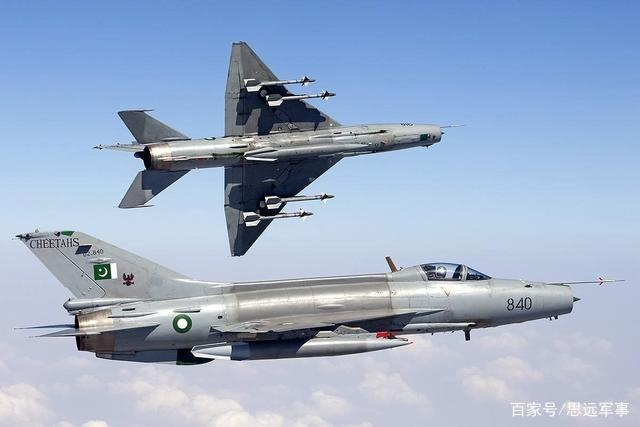airplane: (7, 228, 626, 365), (87, 31, 450, 258)
